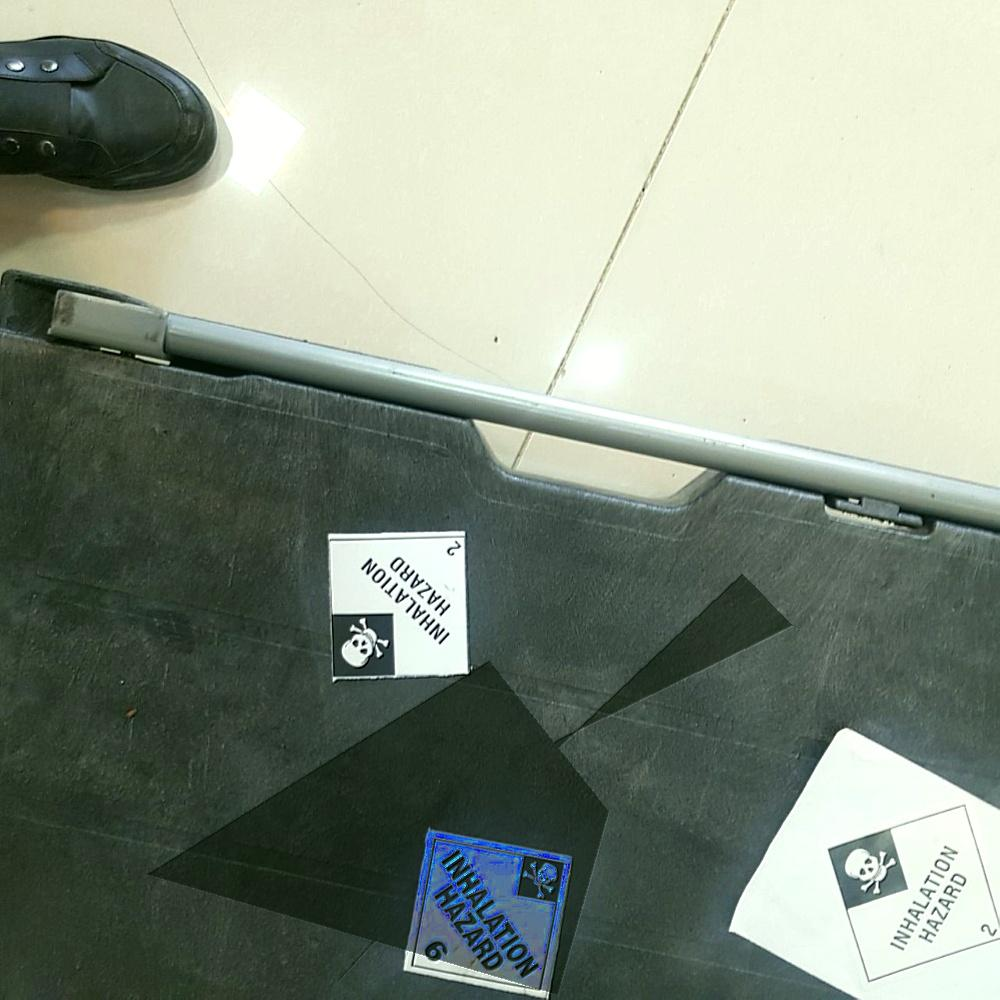poison: (824, 803, 1000, 987), (404, 829, 572, 1000), (327, 532, 471, 681)
